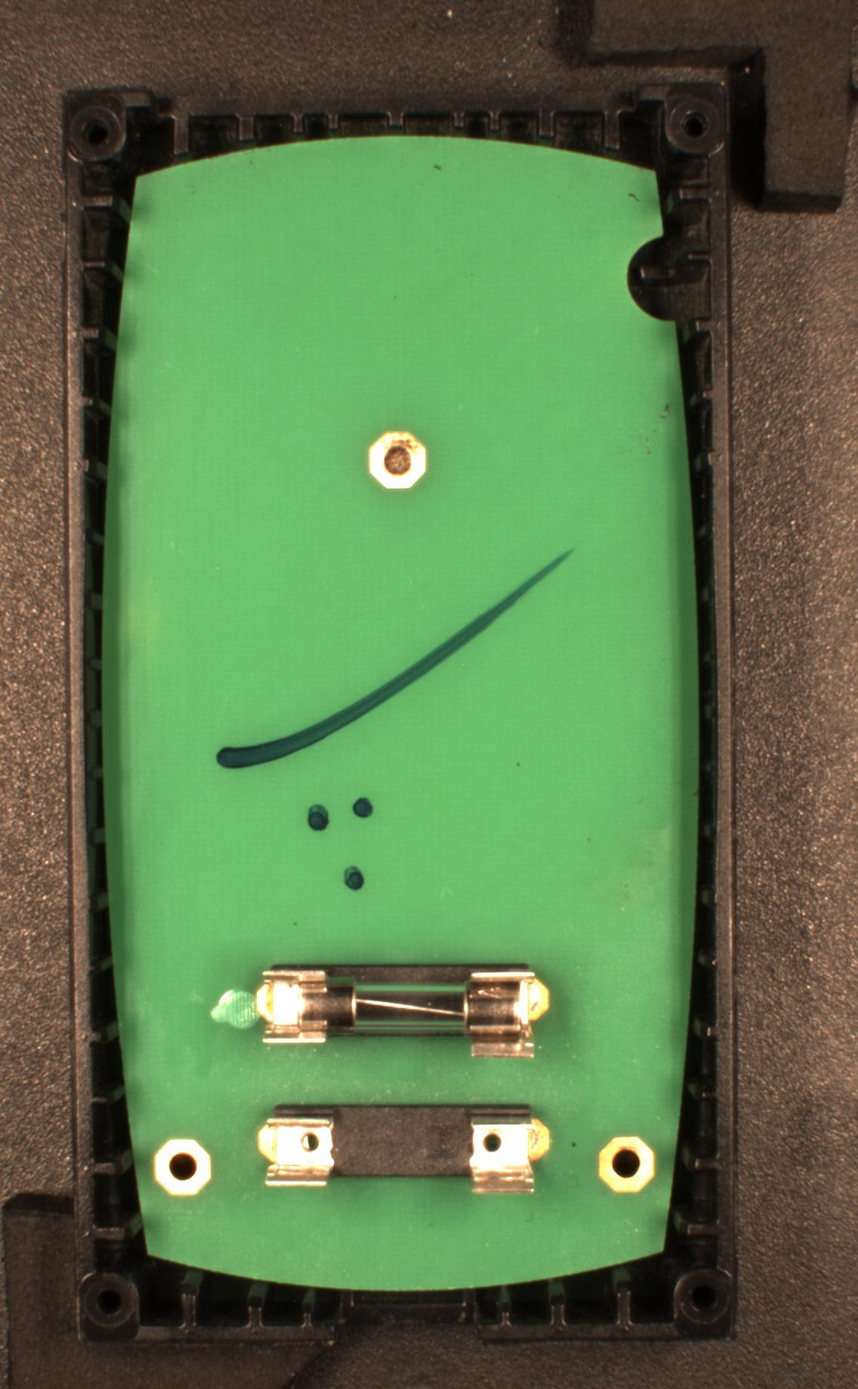Linijsko Ostecene: (215, 545, 577, 774)
Nepostojanje osiguraca: (256, 1100, 551, 1197)
Tockasto Ostecenje: (307, 803, 330, 832), (342, 863, 365, 891), (351, 796, 374, 820)
